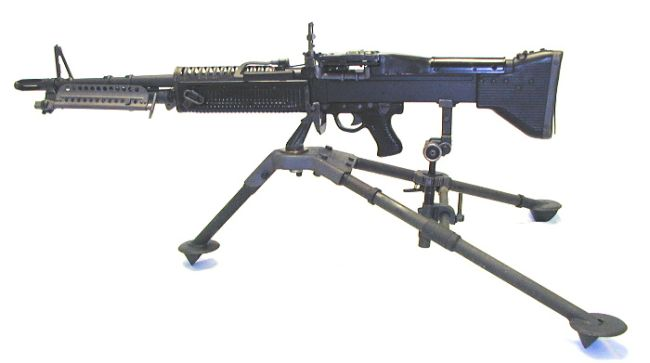rifle: (14, 22, 629, 336)
